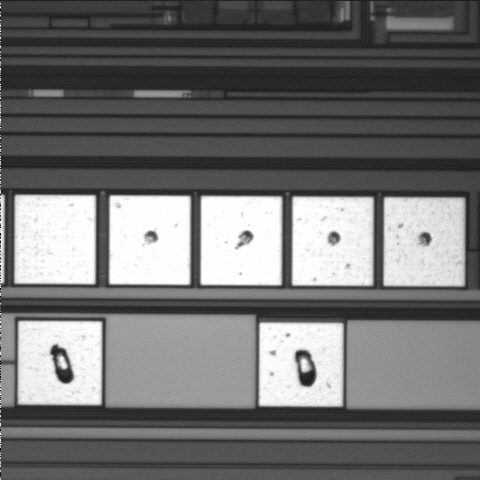pad: (109, 196, 191, 285), (15, 195, 96, 284), (201, 196, 282, 285), (292, 197, 373, 286), (384, 197, 464, 286), (18, 321, 102, 405), (259, 323, 343, 406)
